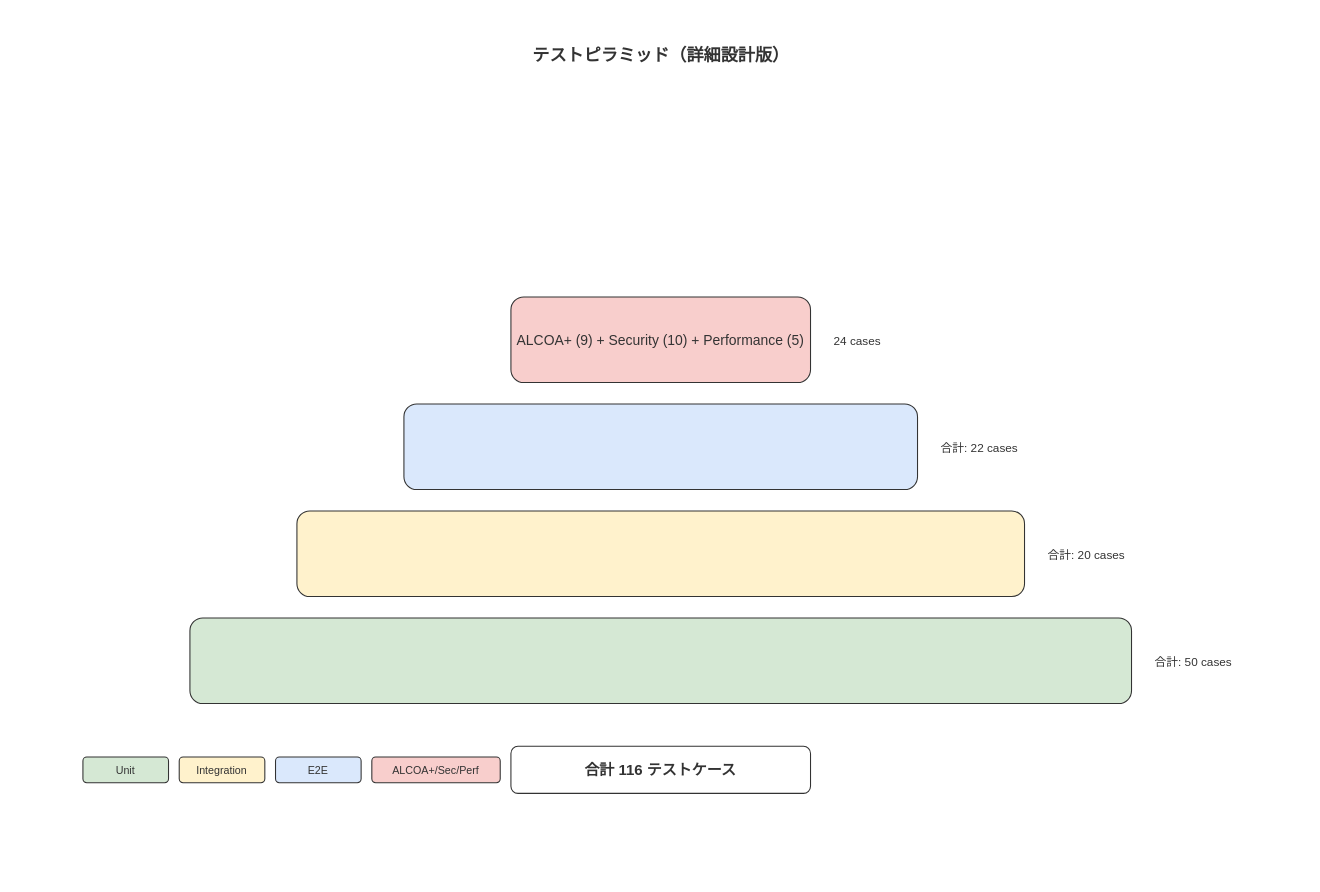
Image size: 1320x892. Some labels were removed from this diagram. Each missing label, with the centre of its shape:
E2E Tests (22): [660,446]
Integration Tests (20): [660,553]
Unit Tests (BE 30 + FE 20 = 50): [660,660]
